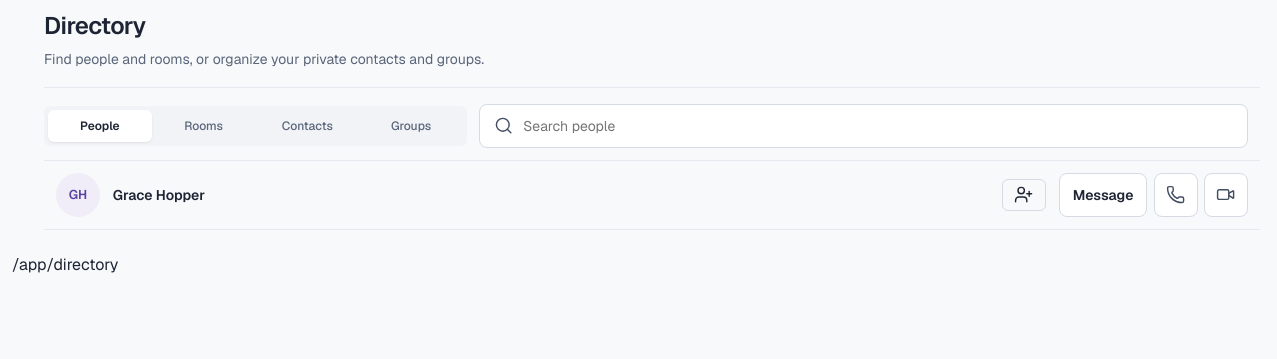
Scenario: DirectoryPage › uses the privacy-minimal directory and opens a joined room in one action
The image size is (1277, 359).
Check: the text "Grace Hopper" is shown, box [113,186,205,204]
Click the button "Rooms": (204, 126) [152,110,255,142]
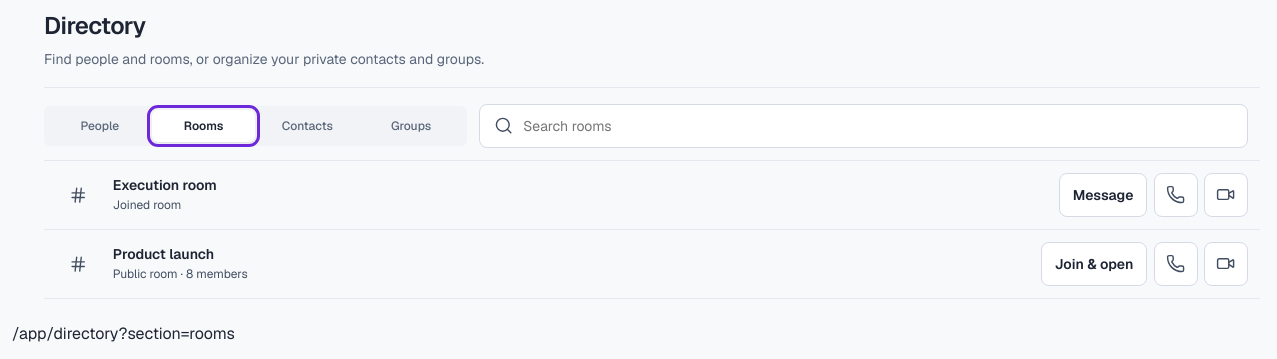
Click the button with aria-label "Message Execution room": (1103, 195) [1059,173,1147,217]
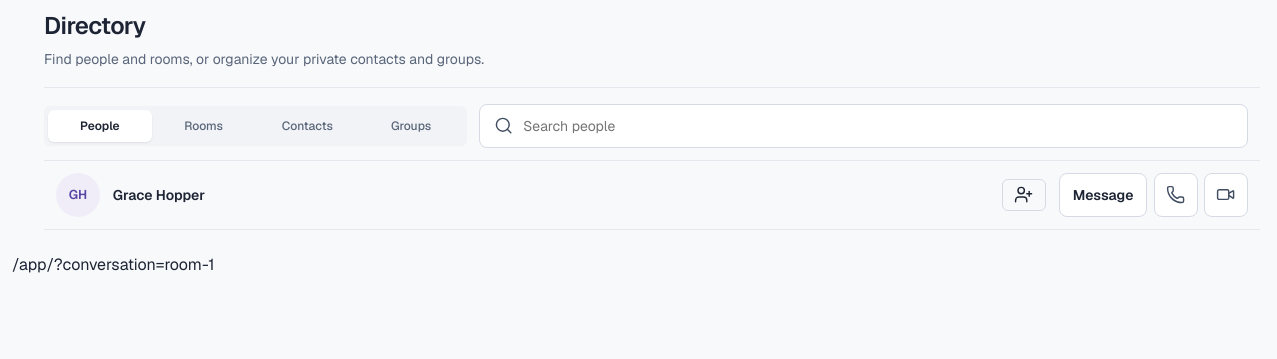
Check: the text named "location" reads "/app/?conversation=room-1", box [12,254,214,275]
